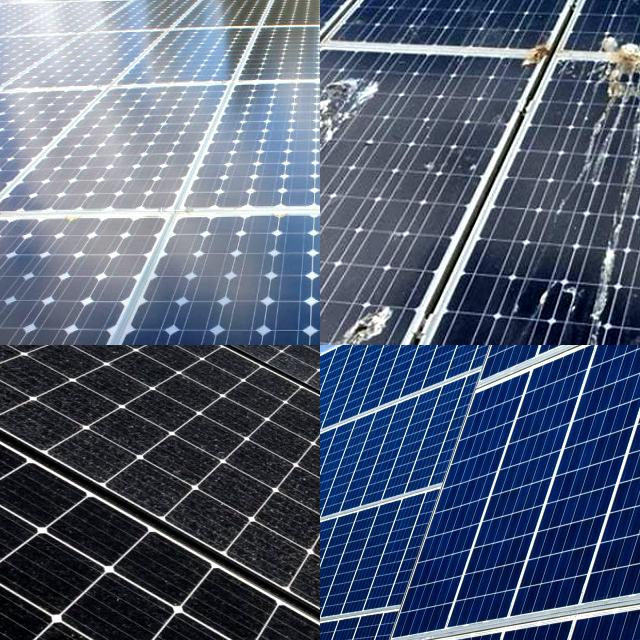bird: (320, 72, 410, 174), (503, 252, 603, 330), (589, 21, 640, 125), (321, 295, 422, 345), (500, 0, 565, 44), (387, 0, 471, 33), (516, 42, 566, 74), (578, 0, 640, 25)
crack: (320, 345, 640, 640), (45, 185, 320, 345), (0, 77, 258, 241), (178, 54, 320, 237), (0, 207, 183, 345)
dust: (176, 464, 320, 618), (0, 345, 136, 480), (0, 524, 137, 640), (200, 345, 320, 432), (117, 345, 232, 391), (0, 345, 87, 391)
